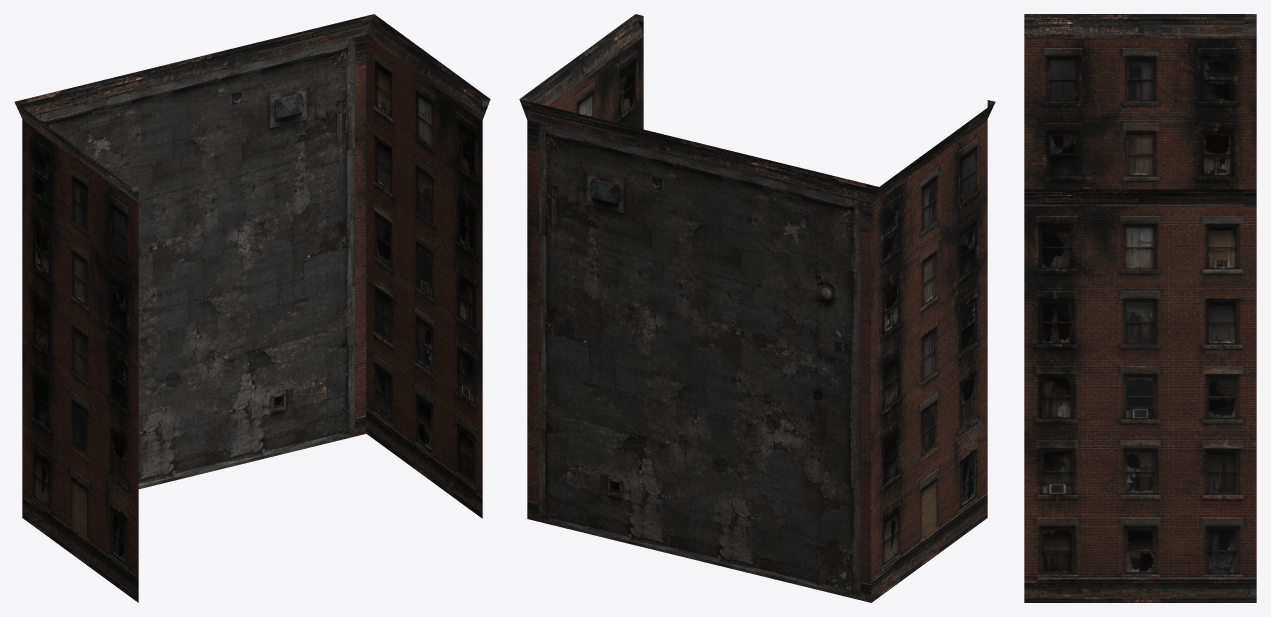
3 renders of one model, left to right at view 1: azimuth 30°, elevation 25°; view 2: azimuth 150°, elevation 25°; view 3: azimuth 270°, elevation 25°, orthographic.
Parts seen in each view (by area): view 1: B006; view 2: B006; view 3: B006.
Part boxes in pixels (x1,y1,x2,y2): B006: (14,14,490,602); B006: (519,14,995,602); B006: (1024,14,1256,602).
Bounding box in the file's own units: 5.23 × 5.8 × 2.93.
Materials: 1 (1 with a texture image).
